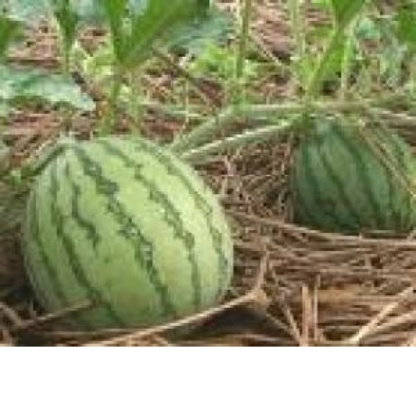duahau: (14, 109, 231, 324), (273, 97, 411, 243)
